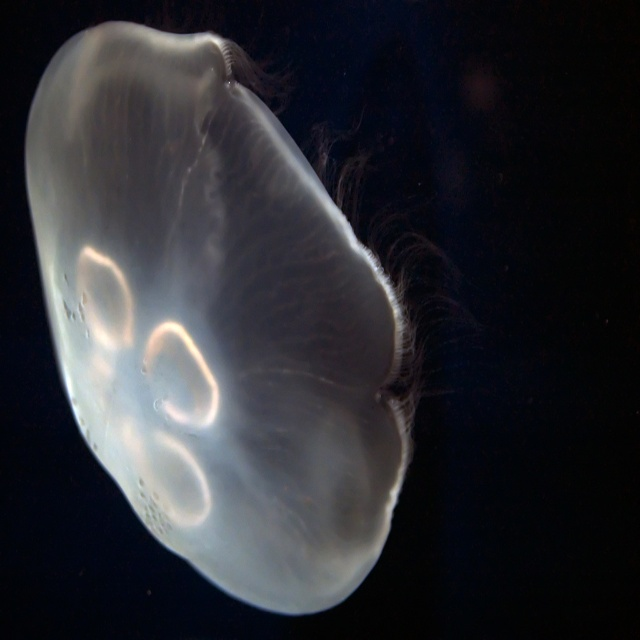Jellyfish: (24, 20, 486, 616)
